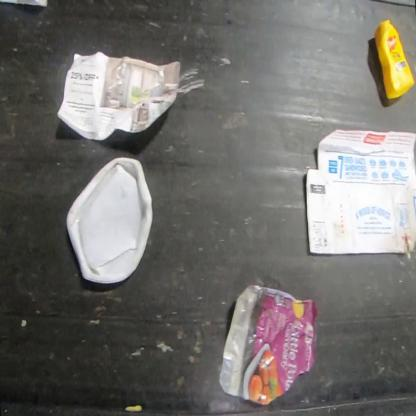cardboard: (305, 128, 415, 256)
rigid_plastic: (66, 158, 154, 284), (374, 20, 414, 101)
soft_plastic: (217, 285, 318, 405)
